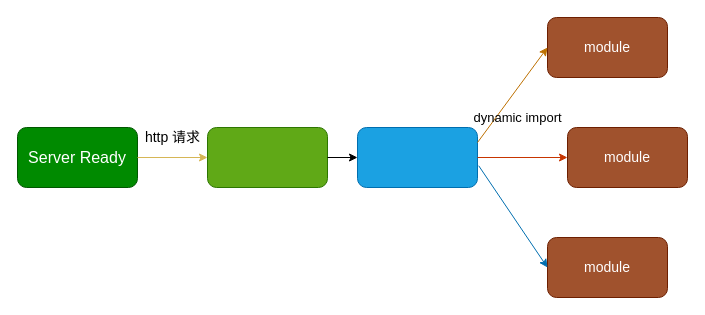
Some shapes in this 705 by 315 pixel diagram are drawn without their labels. Each missing label, with the centre of its shape:
"entry (html ESM)" goes at point (267, 157).
"main.js" goes at point (417, 157).
